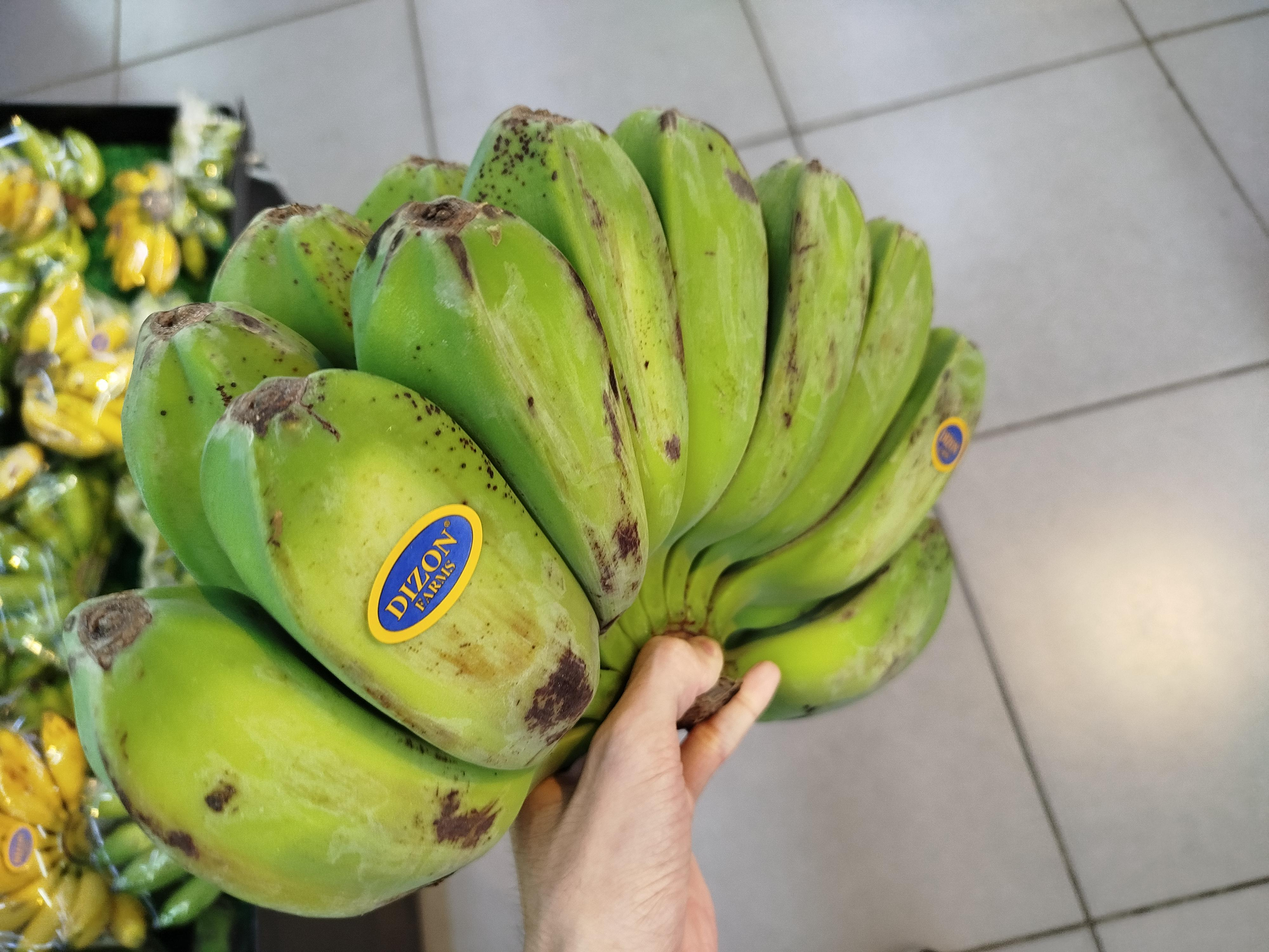underripe: (63, 105, 985, 915)
